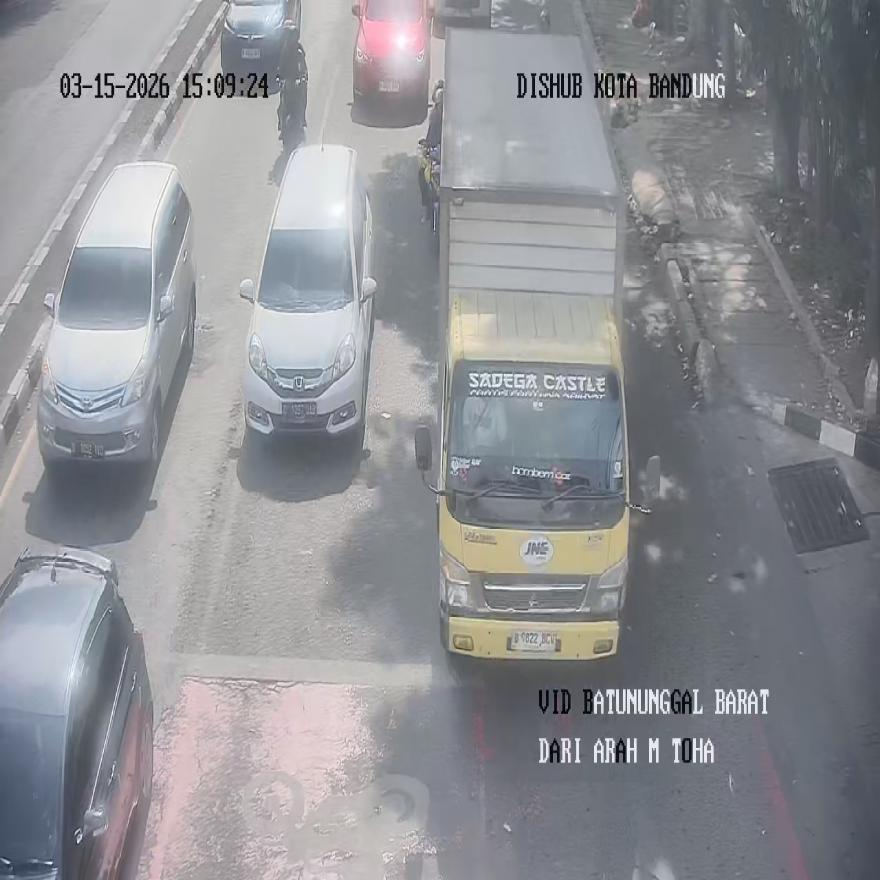Mobil: (0, 545, 154, 878), (36, 161, 196, 467), (239, 144, 377, 438), (351, 0, 436, 109), (219, 0, 300, 84)
Truk ringan: (414, 29, 661, 657)
